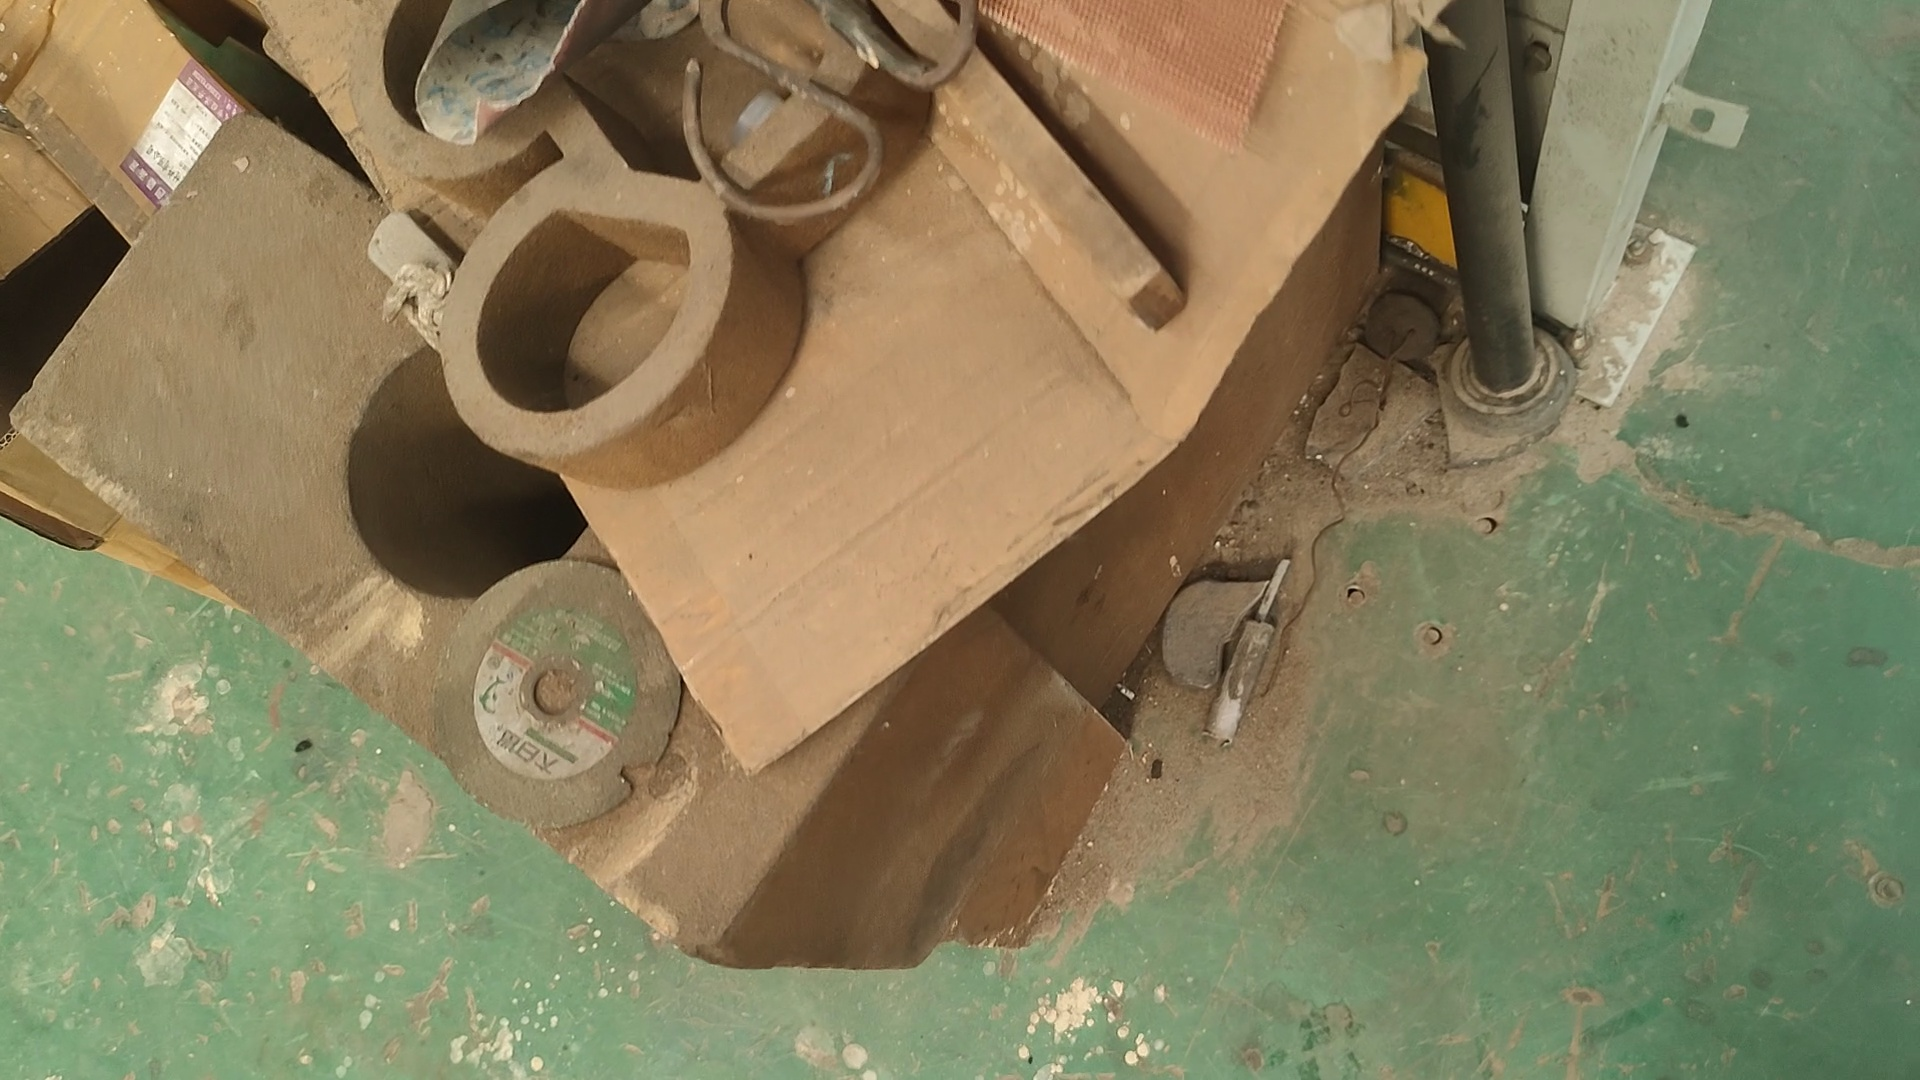pouring hole: (344, 328, 596, 597)
